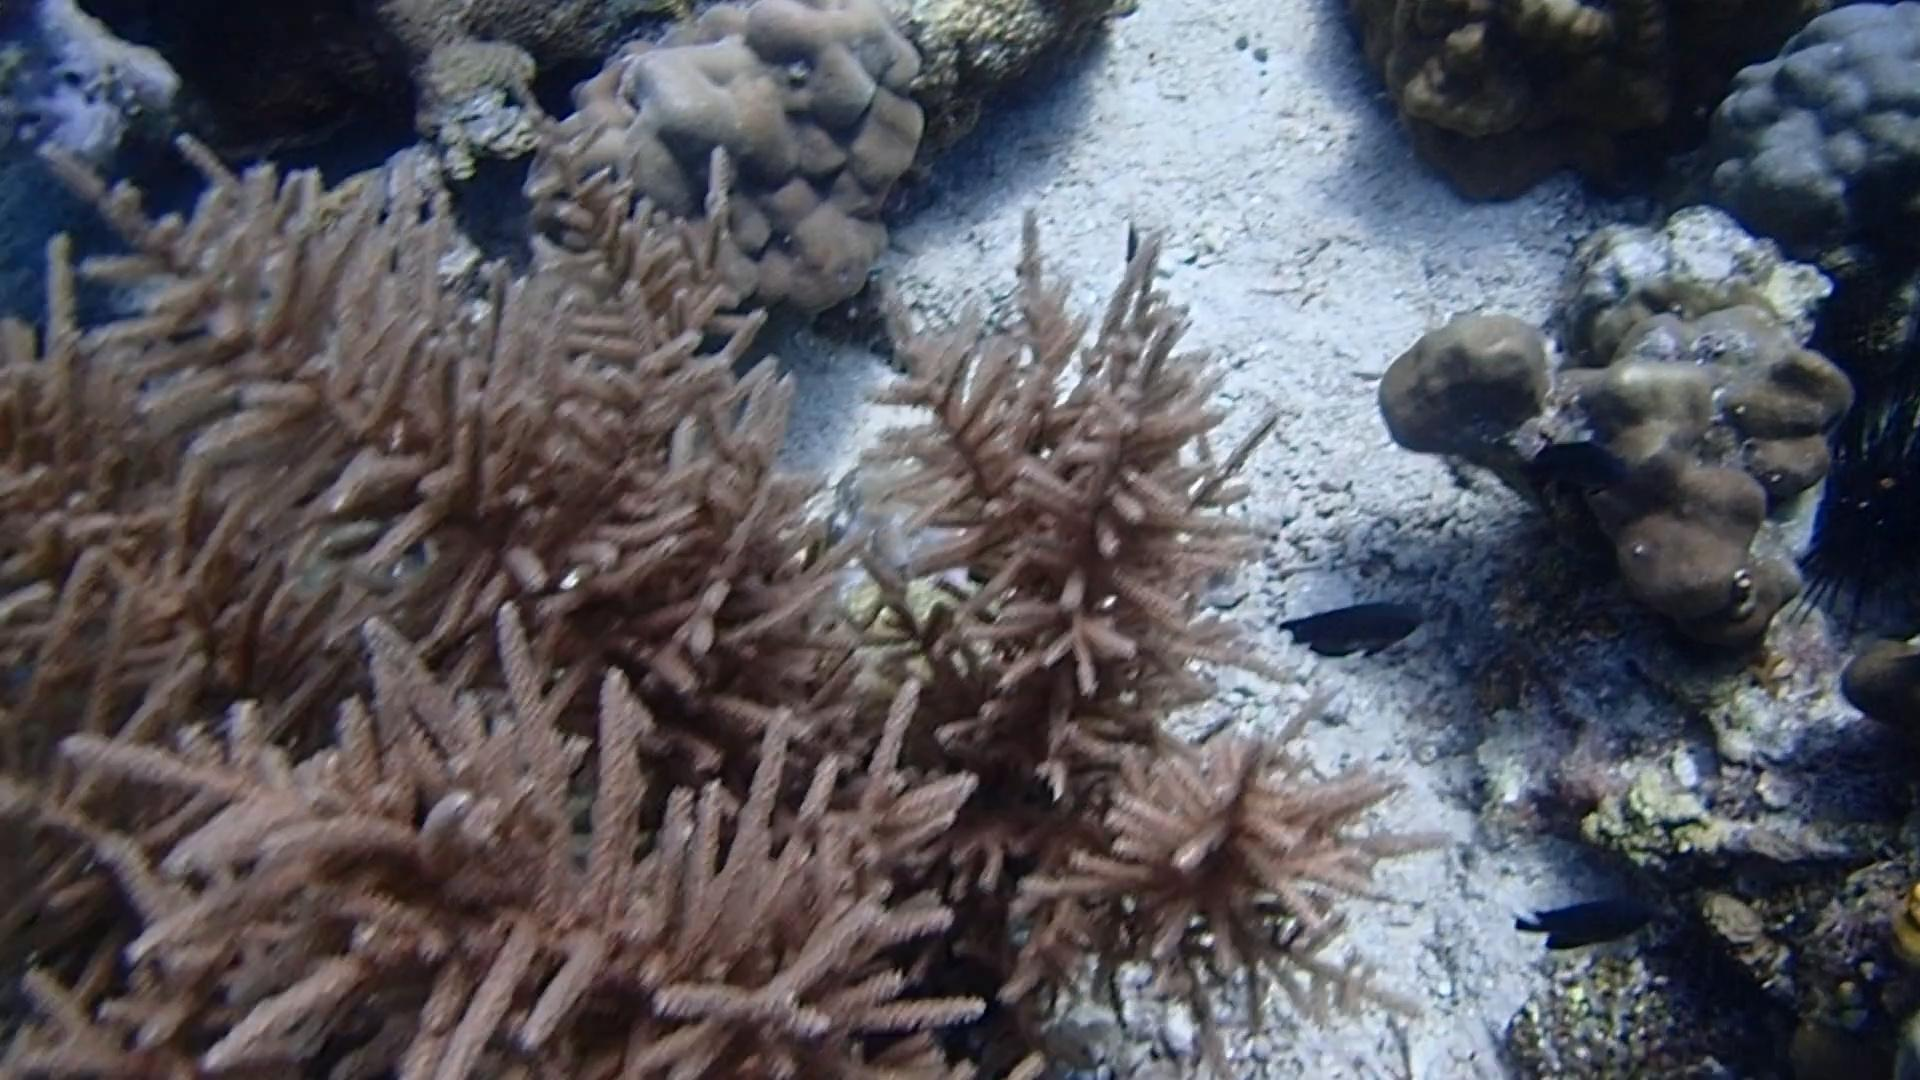Dark Fish: (1274, 592, 1428, 670), (1502, 893, 1656, 957), (1519, 433, 1636, 504)
Yellow Tail: (1114, 206, 1147, 280)
